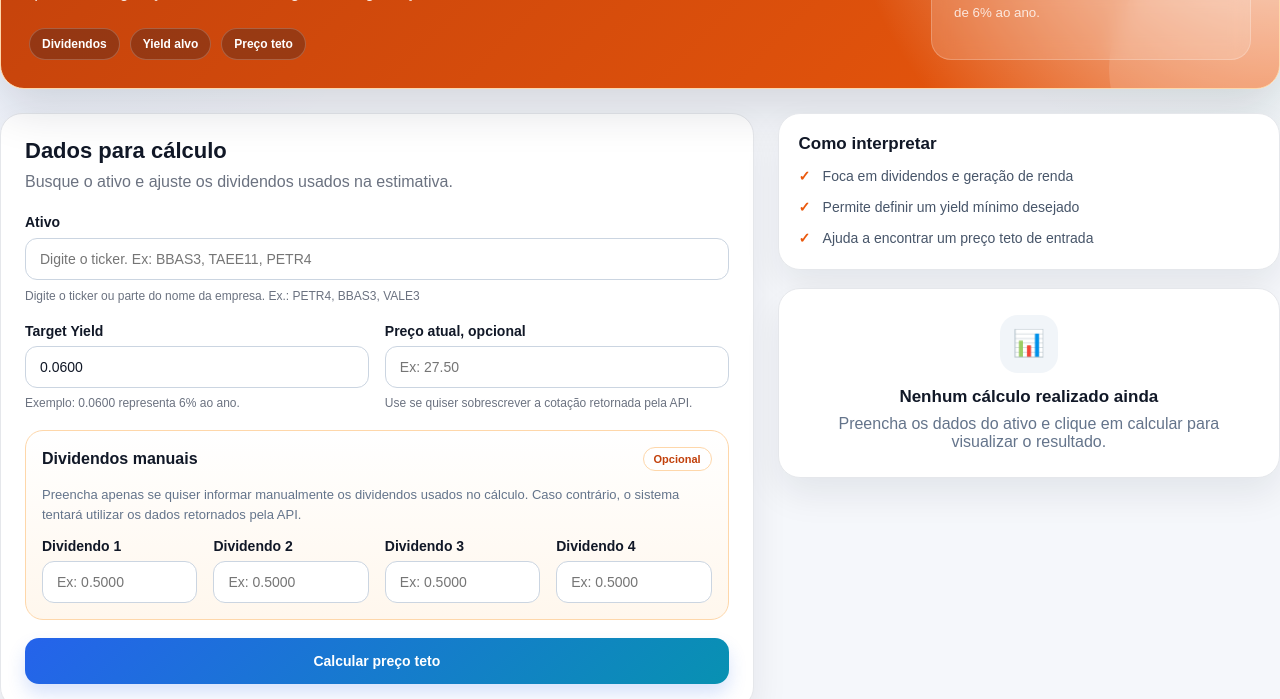
Test case: Valuation pages › valida ticker obrigatório na página Barsi
(page scrolled)
Step 1. Click the button "Calcular preço teto" → (377, 661), box [25,638,729,684]
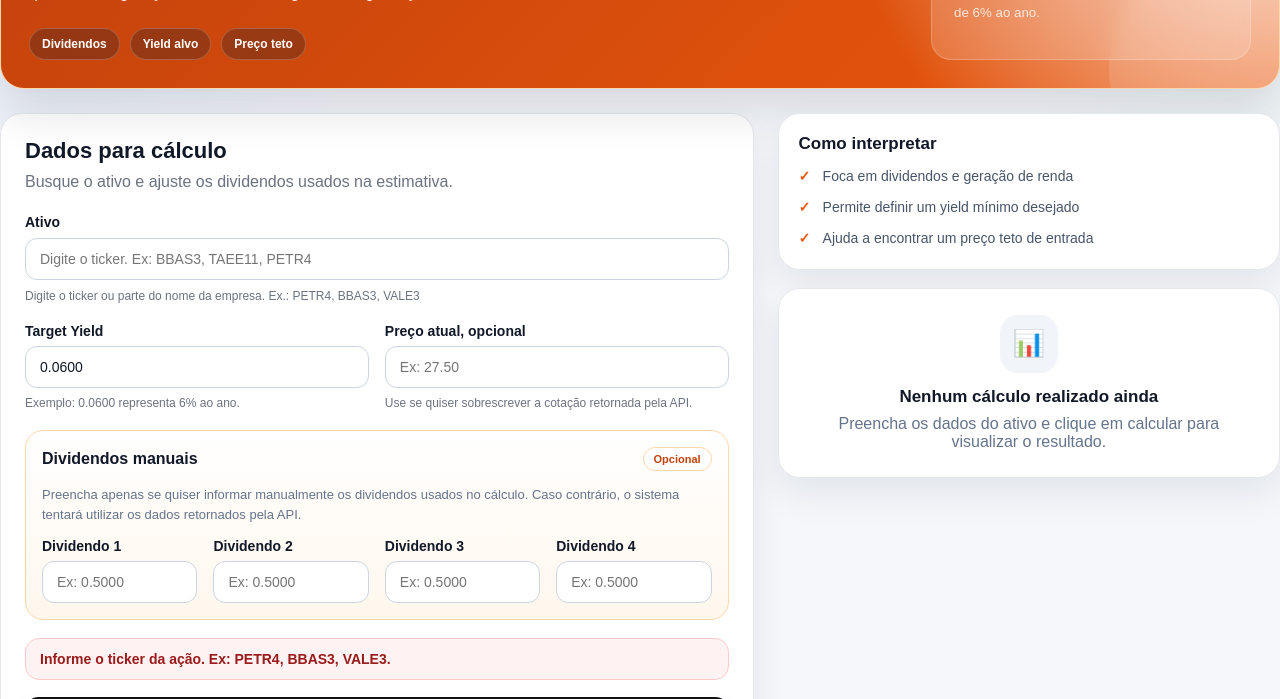
Result: the text "Informe o ticker da ação. Ex: PETR4, BBAS3, VALE3." is shown at [25,638,729,680]
